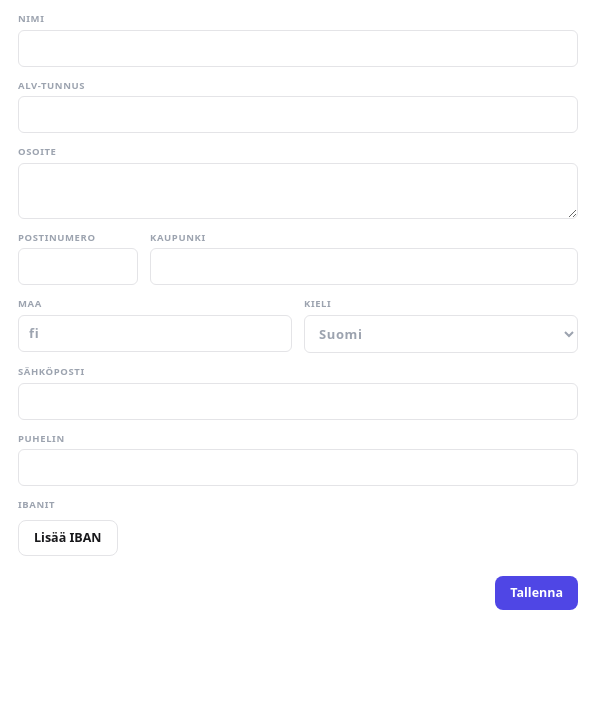
Test: KumppaniLomake › estää tallennuksen kelpaamattomalla IBANilla
Type "Firma" into the field labelled "Nimi" at coordinates (298, 48), box [18, 30, 578, 67]
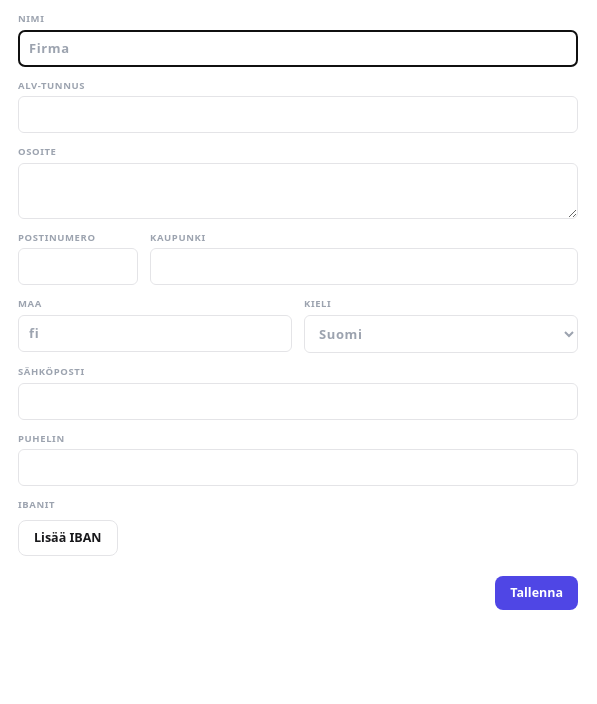
Click the button "Lisää IBAN" at coordinates (68, 538), box [18, 520, 118, 556]
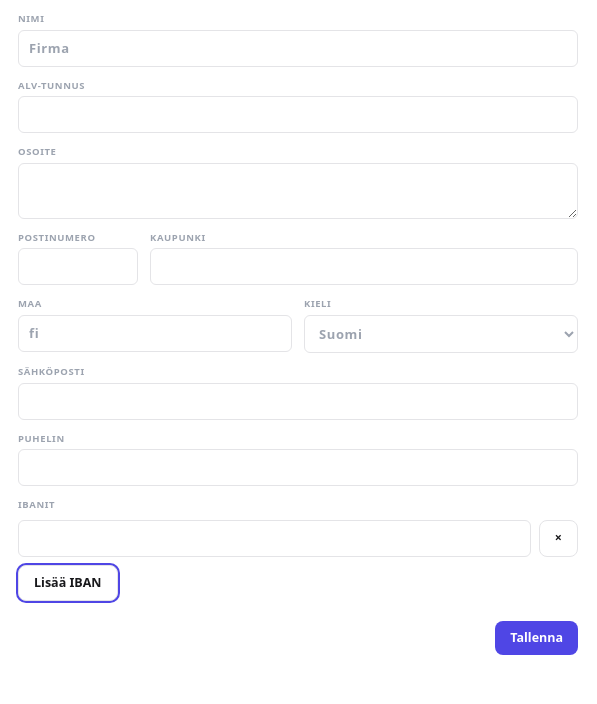
Type "FI0000" into the field named "IBAN" at coordinates (274, 538), box [18, 520, 531, 557]
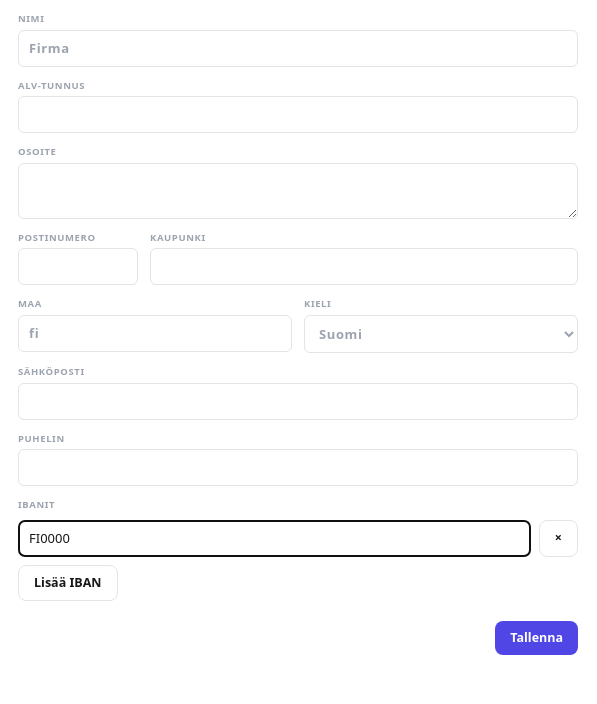
Click the button "Tallenna" at coordinates (537, 638), box [495, 621, 578, 655]
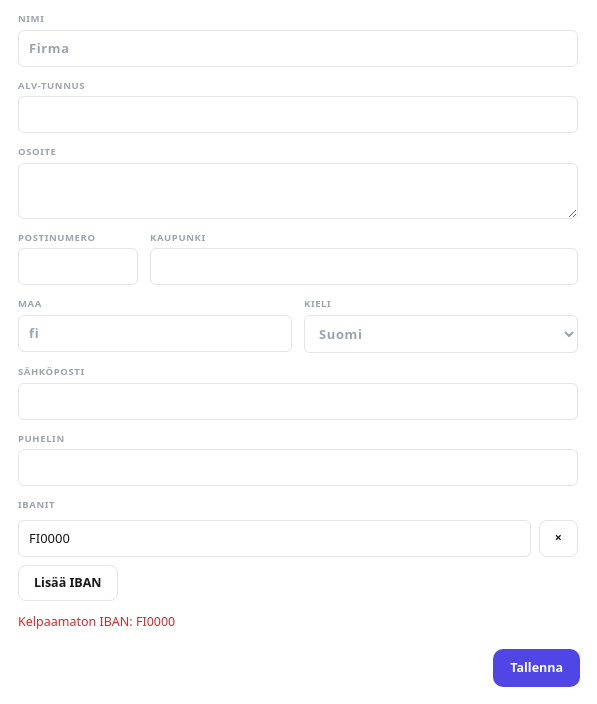
Expected: the text "Kelpaamaton IBAN: FI0000" is shown, [18, 613, 175, 630]
